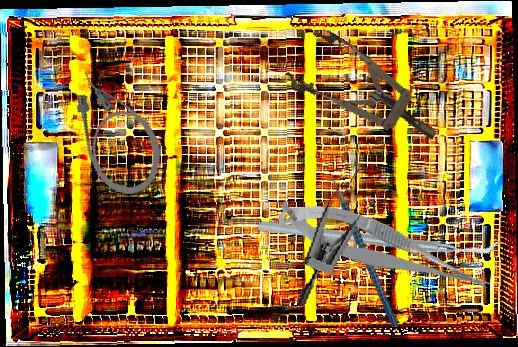Cannula: (61, 56, 173, 205)
Chopper: (256, 132, 503, 339), (313, 158, 400, 332)
Micro Scissor: (272, 179, 495, 321)
Speculum: (280, 23, 453, 166), (295, 156, 398, 319)
